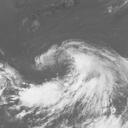cyclone: (33, 37, 115, 109)
